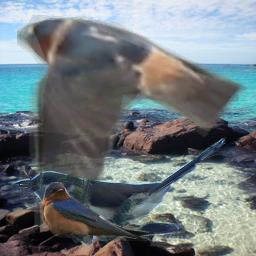Cuckoo: (11, 137, 232, 247)
Swallow: (17, 8, 248, 228), (40, 182, 162, 244)
